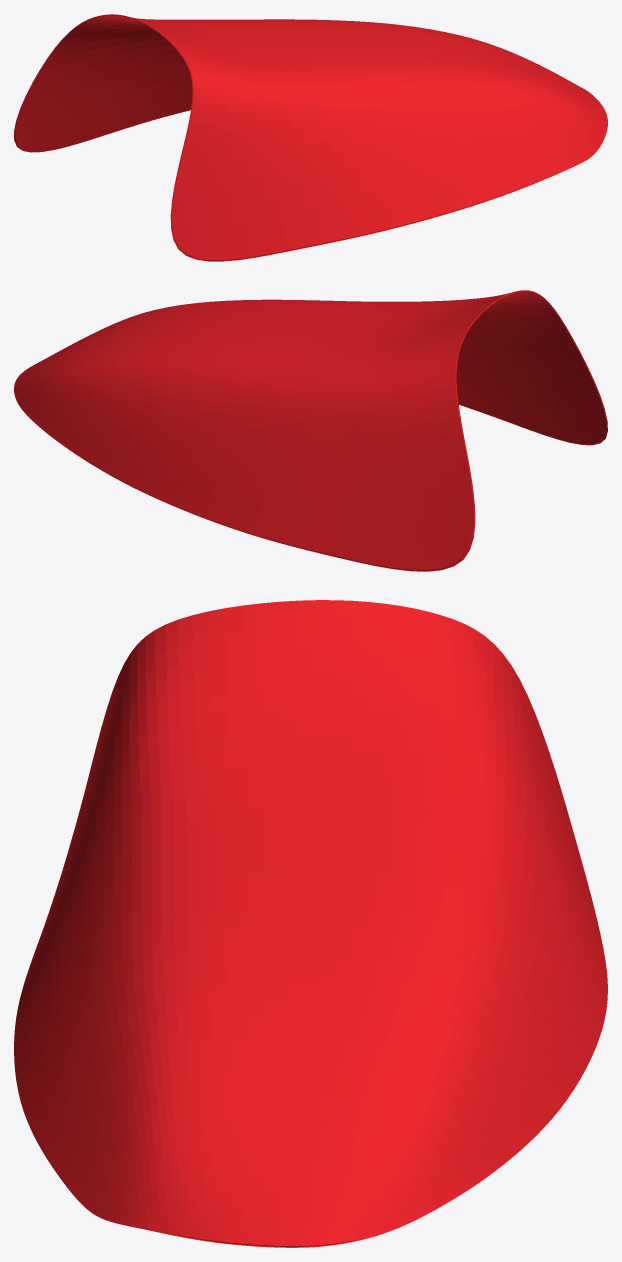
File: frontLeftRed.obj
3 renders of one model, top to bottom at view 1: azimuth 30°, elevation 25°; view 2: azimuth 150°, elevation 25°; view 3: azimuth 270°, elevation 25°, orthographic. The views are drawn at different scales.
Visible parts, largest first — view 1: Plane; view 2: Plane; view 3: Plane.
Part boxes in pixels (box(x1,y1,x2,y2)): Plane: box(14, 14, 607, 261); Plane: box(14, 290, 607, 571); Plane: box(14, 600, 607, 1247).
Bounding box in the file's own units: 15.97 × 5.59 × 9.72.
Materials: 1 (1 with a texture image).
